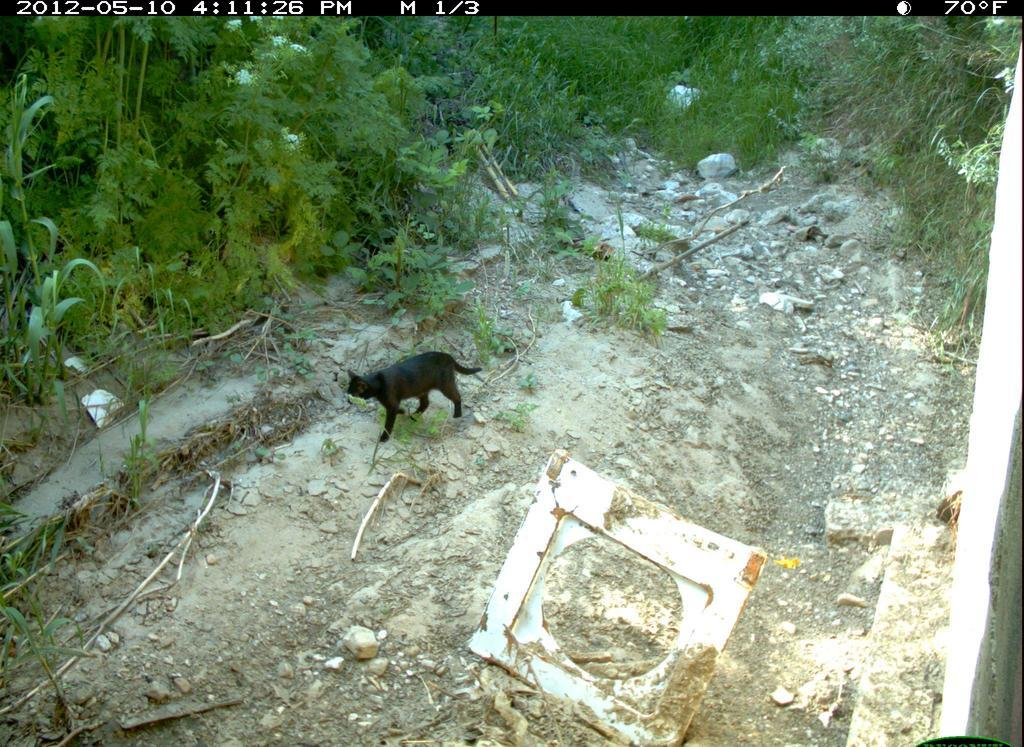cat: (342, 345, 489, 448)
